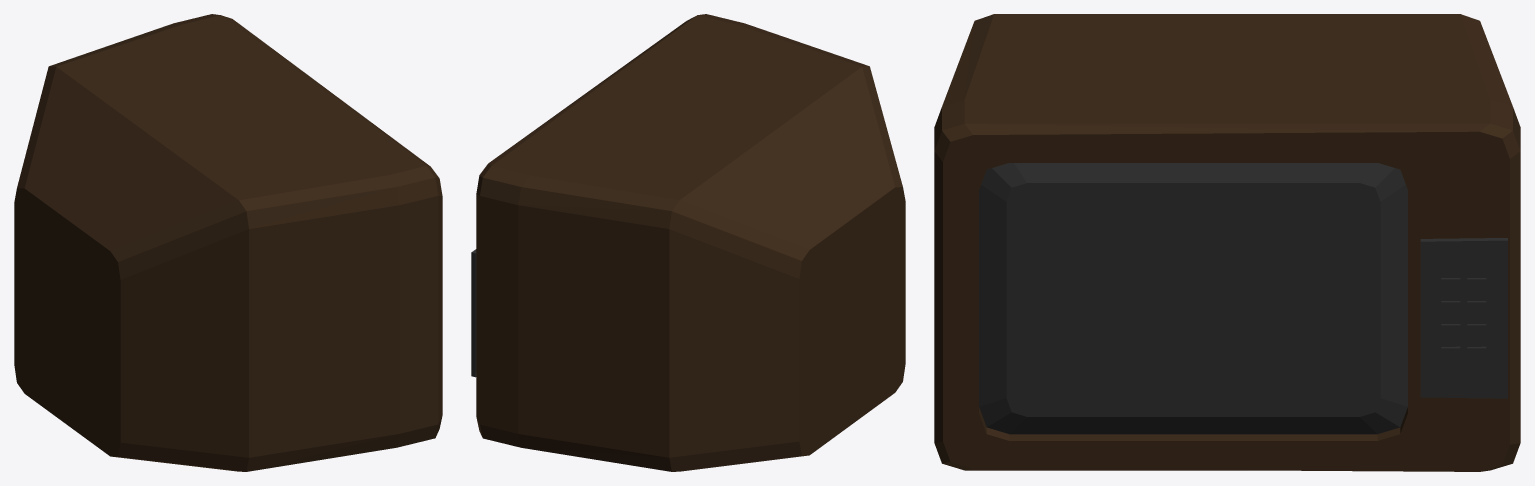
The picture shows the model from 3 angles, left to right: view 1: azimuth 30°, elevation 25°; view 2: azimuth 150°, elevation 25°; view 3: azimuth 270°, elevation 25°; orthographic projection. The views are drawn at different scales.
Parts seen in each view (by area): view 1: Box022; view 2: Box022; view 3: Box022.
Part boxes in pixels (bbox=[...]): Box022: bbox=[14, 14, 442, 471]; Box022: bbox=[471, 14, 905, 471]; Box022: bbox=[934, 14, 1520, 471].
Size of the model in its own units: 15.83 by 15.06 by 23.08.
